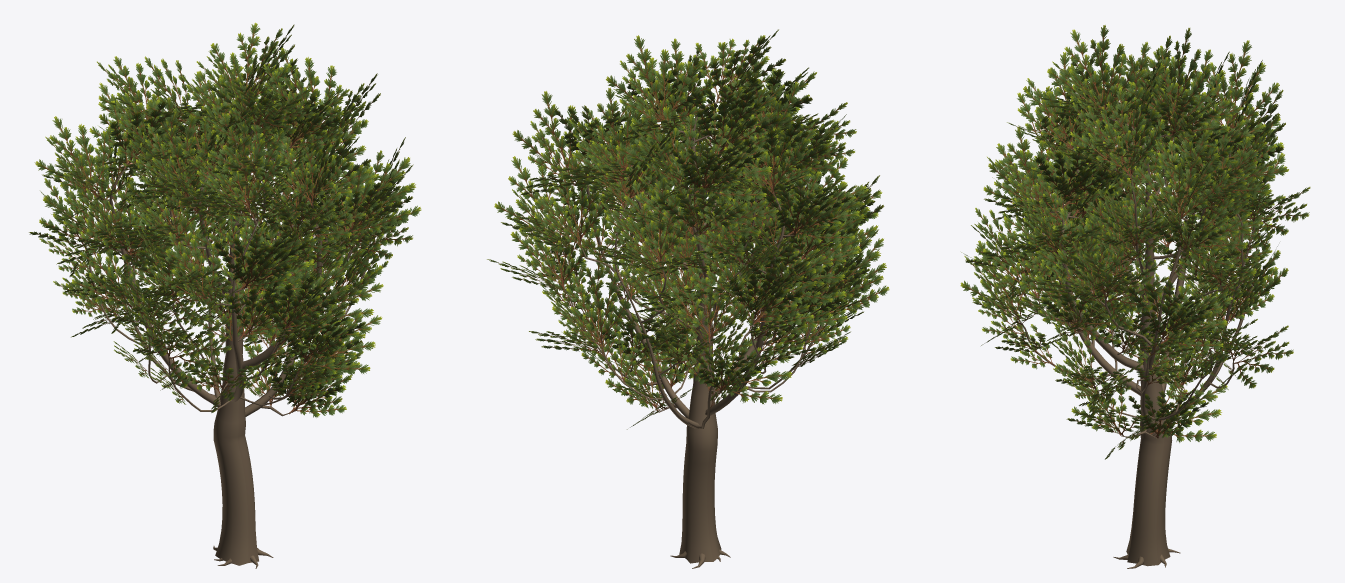
Rendered from corealm_yew_2.glb.
3 views of the same model, side by side, from view 1: azimuth 30°, elevation 25°; view 2: azimuth 150°, elevation 25°; view 3: azimuth 270°, elevation 25° (orthographic).
Parts seen in each view (by area): view 1: corealm_yew_2; view 2: corealm_yew_2; view 3: corealm_yew_2.
Part boxes in pixels (bbox=[...]): corealm_yew_2: bbox=[29, 22, 421, 568]; corealm_yew_2: bbox=[487, 29, 889, 568]; corealm_yew_2: bbox=[960, 25, 1310, 568].
Size of the model in its own units: 5.25 by 6.95 by 4.63.
Materials: 2 (1 with a texture image).
